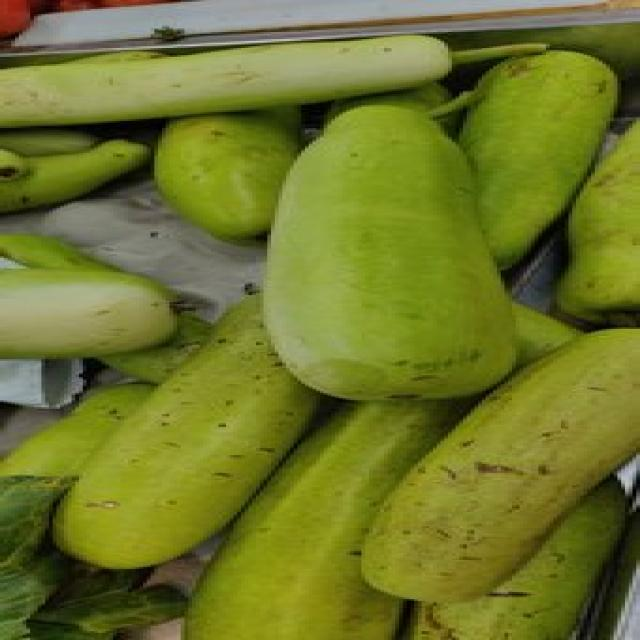Bell Pepper: (0, 0, 203, 39)
Bottle Gourd: (256, 100, 520, 400), (359, 326, 640, 593), (54, 302, 316, 578), (0, 32, 452, 128), (439, 49, 603, 244), (0, 231, 181, 359)
Spinach: (0, 23, 636, 638)
